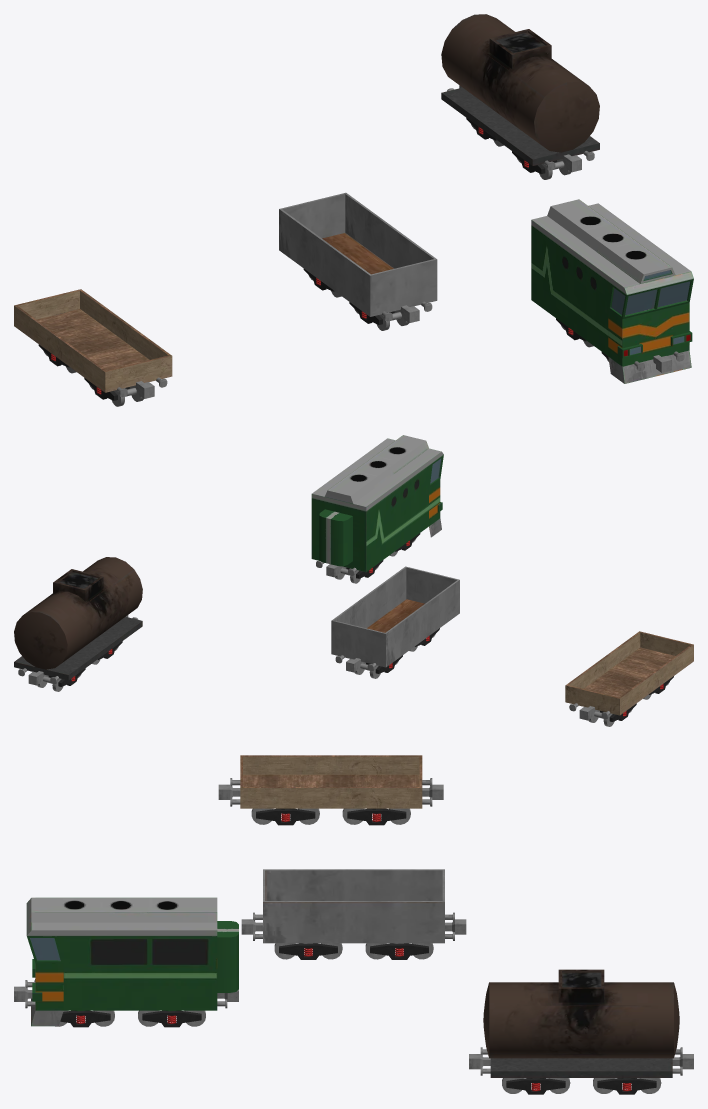
Rendered from trains.a35395d816.glb.
The picture shows the model from 3 angles, top to bottom: view 1: azimuth 30°, elevation 25°; view 2: azimuth 150°, elevation 25°; view 3: azimuth 270°, elevation 25°; orthographic projection. The views are drawn at different scales.
Visible parts, largest first — view 1: diesel|Disel_2_1_Disel_2_0, tank|FreightWag_3_FreightWagon_3_0, gondola|FreightWag_1_FreightWagon_1_0, flat|FreightWag_2_FreightWagon_2_0; view 2: diesel|Disel_2_1_Disel_2_0, tank|FreightWag_3_FreightWagon_3_0, gondola|FreightWag_1_FreightWagon_1_0, flat|FreightWag_2_FreightWagon_2_0; view 3: diesel|Disel_2_1_Disel_2_0, tank|FreightWag_3_FreightWagon_3_0, gondola|FreightWag_1_FreightWagon_1_0, flat|FreightWag_2_FreightWagon_2_0, diesel|WheelsModule_1.018_Wheels_0, flat|WheelsModule_1.015_Wheels_0, flat|WheelsModule_1.014_Wheels_0, tank|WheelsModule_1.017_Wheels_0, tank|WheelsModule_1.016_Wheels_0, gondola|WheelsModule_1.003_Wheels_0, gondola|WheelsModule_1.002_Wheels_0, diesel|WheelsModule_1.019_Wheels_0.
Part boxes in pixels (x1=…): diesel|Disel_2_1_Disel_2_0: x1=531, y1=199, x2=693, y2=383; tank|FreightWag_3_FreightWagon_3_0: x1=441, y1=14, x2=599, y2=165; gondola|FreightWag_1_FreightWagon_1_0: x1=279, y1=192, x2=437, y2=316; flat|FreightWag_2_FreightWagon_2_0: x1=14, y1=289, x2=172, y2=392; diesel|Disel_2_1_Disel_2_0: x1=311, y1=435, x2=443, y2=572; tank|FreightWag_3_FreightWagon_3_0: x1=14, y1=557, x2=142, y2=680; gondola|FreightWag_1_FreightWagon_1_0: x1=331, y1=566, x2=459, y2=667; flat|FreightWag_2_FreightWagon_2_0: x1=565, y1=631, x2=693, y2=715; diesel|Disel_2_1_Disel_2_0: x1=26, y1=897, x2=238, y2=1026; tank|FreightWag_3_FreightWagon_3_0: x1=483, y1=969, x2=679, y2=1078; gondola|FreightWag_1_FreightWagon_1_0: x1=263, y1=869, x2=444, y2=943; flat|FreightWag_2_FreightWagon_2_0: x1=240, y1=755, x2=422, y2=809; diesel|WheelsModule_1.018_Wheels_0: x1=142, y1=1010, x2=201, y2=1027; flat|WheelsModule_1.015_Wheels_0: x1=256, y1=808, x2=315, y2=825; flat|WheelsModule_1.014_Wheels_0: x1=347, y1=808, x2=406, y2=825; tank|WheelsModule_1.017_Wheels_0: x1=597, y1=1078, x2=656, y2=1094; tank|WheelsModule_1.016_Wheels_0: x1=506, y1=1078, x2=565, y2=1094; gondola|WheelsModule_1.003_Wheels_0: x1=370, y1=943, x2=428, y2=959; gondola|WheelsModule_1.002_Wheels_0: x1=279, y1=943, x2=337, y2=959; diesel|WheelsModule_1.019_Wheels_0: x1=60, y1=1010, x2=110, y2=1027.
Bounding box in the file's own units: 3140 × 561 × 2988.
6 materials, 6 textured.
